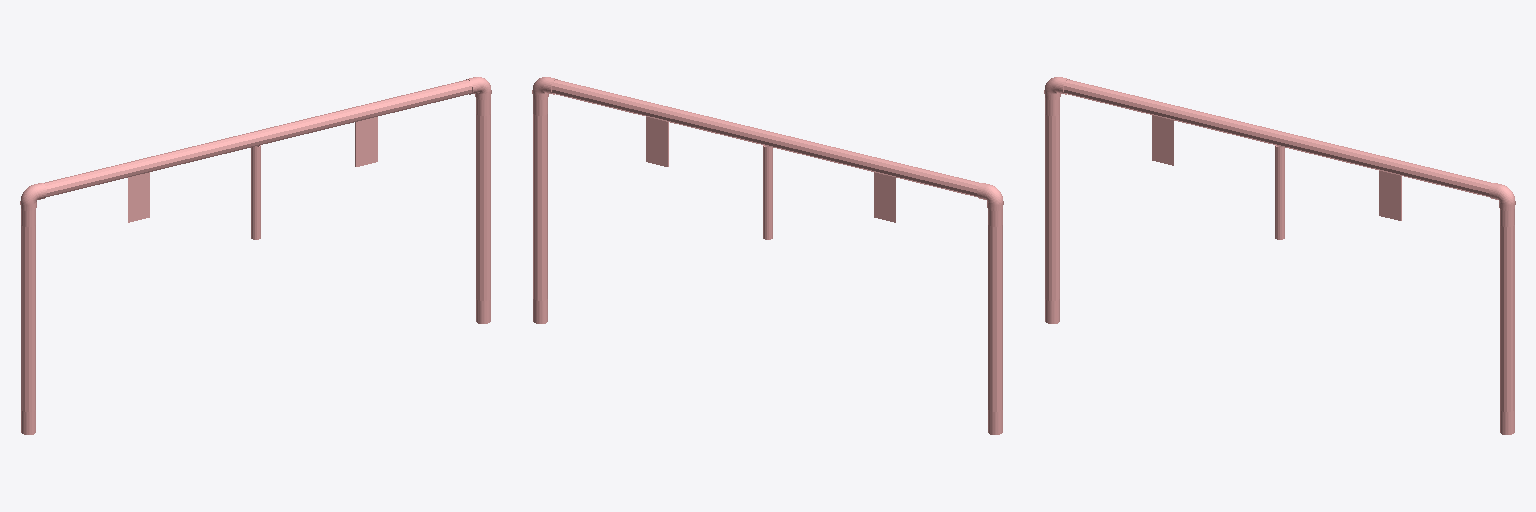
robot.urdf — Assm_Gates_UDRF:
<?xml version="1.0" encoding="utf-8"?>
<!-- This URDF was automatically created by SolidWorks to URDF Exporter! Originally created by [author] ([email redacted]) 
     Commit Version: 1.6.0-4-g7f85cfe  Build Version: 1.6.7995.38578
     For more information, please see http://wiki.ros.org/sw_urdf_exporter -->
<robot
  name="Assm_Gates_UDRF">
  <link
    name="base_link">
    <inertial>
      <origin
        xyz="-0.000334383229830598 -0.415842296677257 4.56345901650137E-18"
        rpy="0 0 0" />
      <mass
        value="15.6841476925093" />
      <inertia
        ixx="0.54030540095444"
        ixy="6.15284732885482E-20"
        ixz="1.81046038795965E-09"
        iyy="5.07038501832075"
        iyz="1.66879384783517E-18"
        izz="5.58727350327502" />
    </inertial>
    <visual>
      <origin
        xyz="0 0 0"
        rpy="0 0 0" />
      <geometry>
        <mesh
          filename="package://Assm_Gates_UDRF/meshes/base_link.STL" />
      </geometry>
      <material
        name="">
        <color
          rgba="1 0.752941176470588 0.752941176470588 1" />
      </material>
    </visual>
    <collision>
      <origin
        xyz="0 0 0"
        rpy="0 0 0" />
      <geometry>
        <mesh
          filename="package://Assm_Gates_UDRF/meshes/base_link.STL" />
      </geometry>
    </collision>
  </link>
</robot>

--- What the picture shows (computed from the rendered views, not written in the file) ---
The picture shows the robot from 3 angles, left to right: view 1: azimuth 30°, elevation 25°; view 2: azimuth 150°, elevation 25°; view 3: azimuth 330°, elevation 25°; orthographic projection.
Model Assm_Gates_UDRF with 1 links and 0 joints (none), rooted at base_link, posed every joint at zero.
Links seen in each view (by area): view 1: base_link; view 2: base_link; view 3: base_link.
Link boxes in pixels (box(x1,y1,x2,y2)): base_link: box(20, 77, 491, 434); base_link: box(532, 77, 1003, 434); base_link: box(1044, 77, 1515, 434).
Bounding box of the posed robot: 3.23 × 0.0965 × 1.62 m (x, y, z).
1 mesh visuals loaded from 1 distinct referenced files (1 binary STL).
